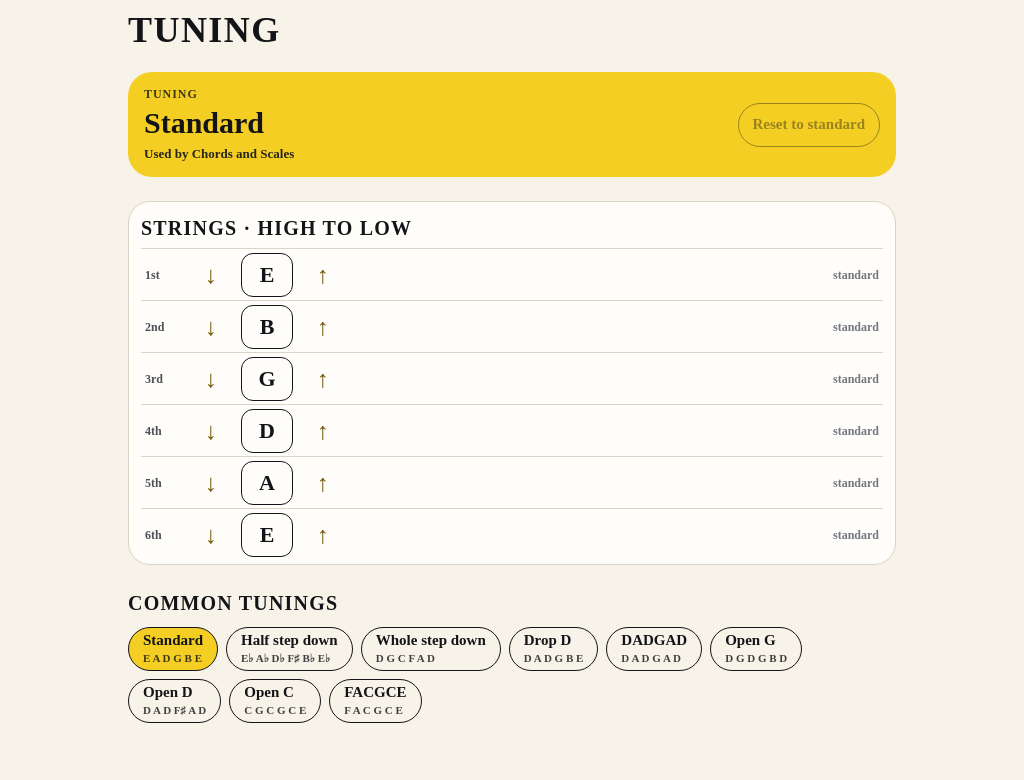
Test: TuningPage › stops a string at its limit
Click the button named "Tune 1st string up".
click(323, 274)  # box [301, 252, 345, 296]
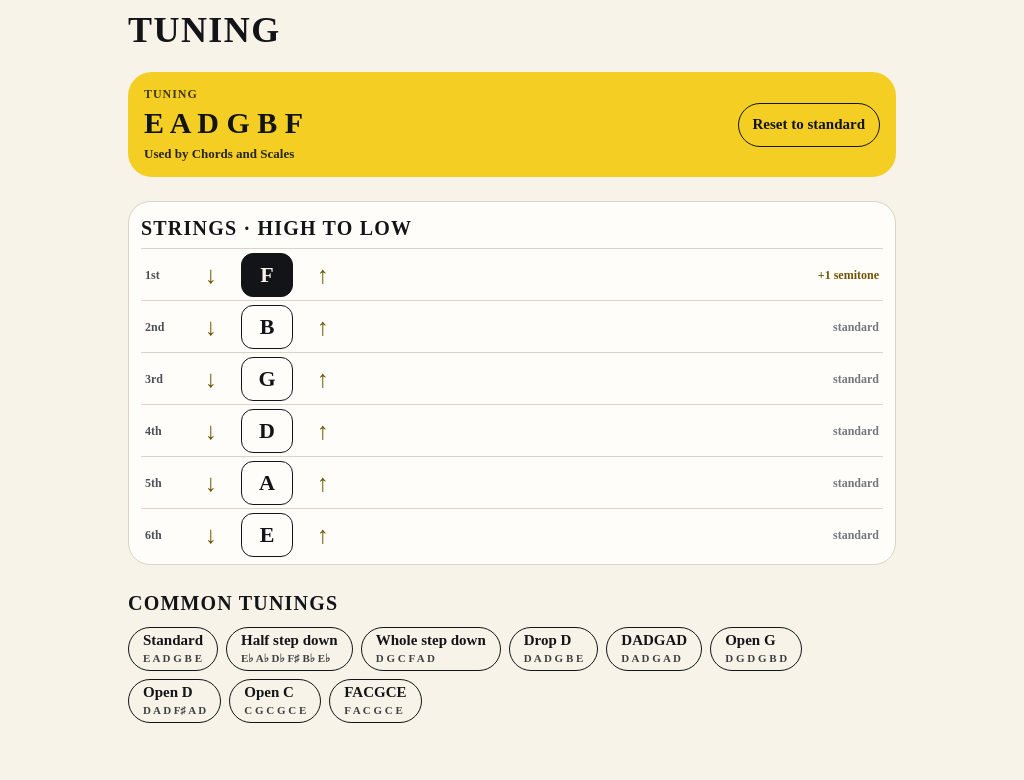
Click the button named "Tune 1st string up".
click(323, 274)  # box [301, 252, 345, 296]
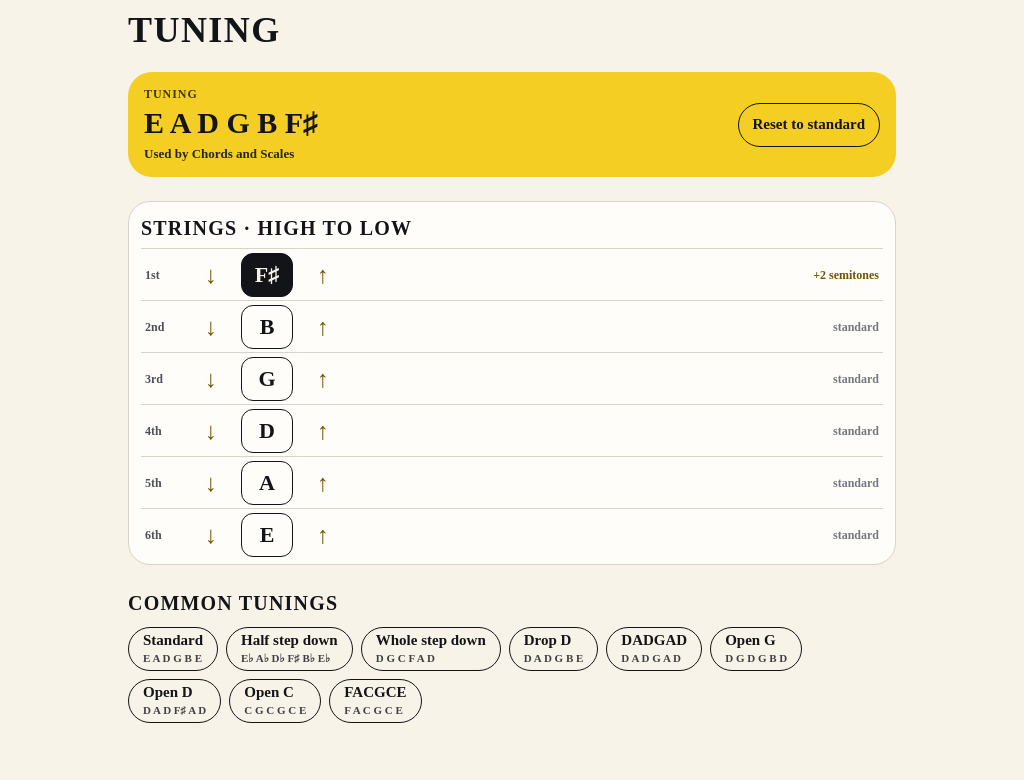
Click the button named "Tune 1st string up".
click(323, 274)  # box [301, 252, 345, 296]
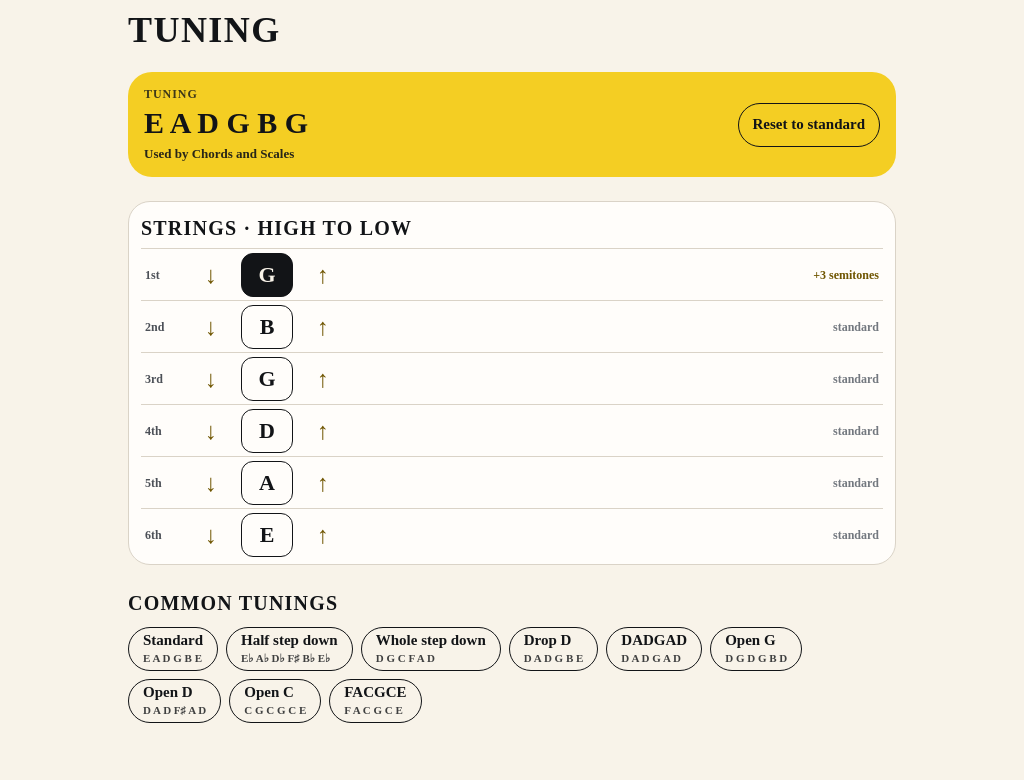
Click the button named "Tune 1st string up".
click(323, 274)  # box [301, 252, 345, 296]
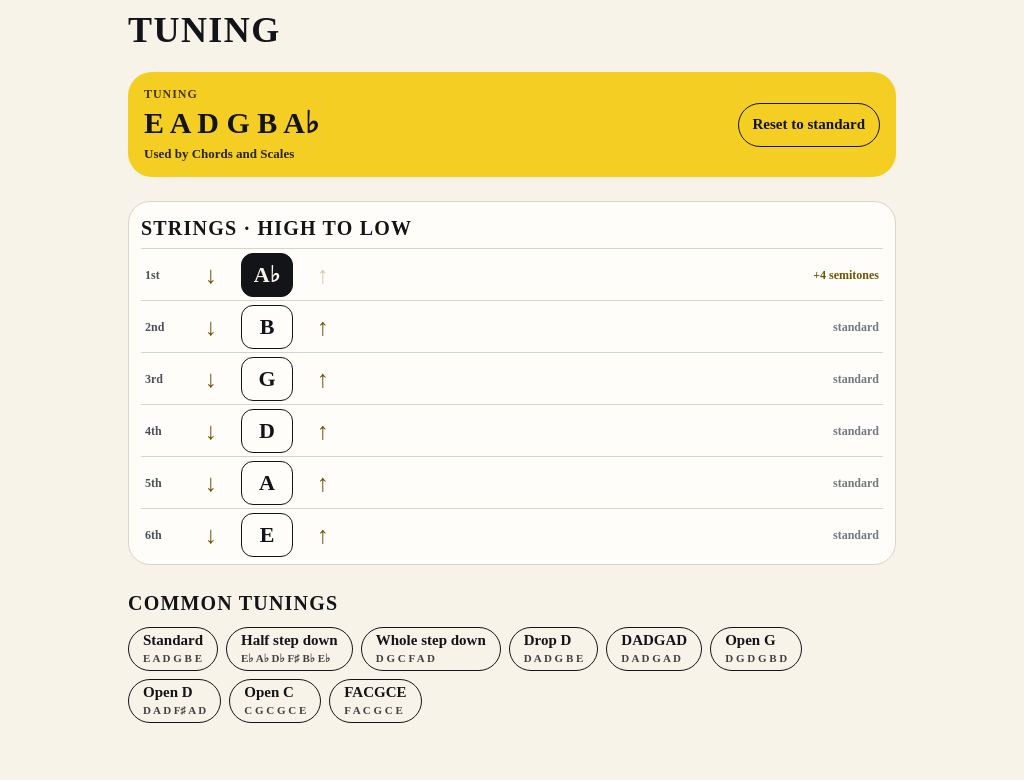
Result: the button named "Tune 1st string up" is disabled at [301, 252, 345, 296]
